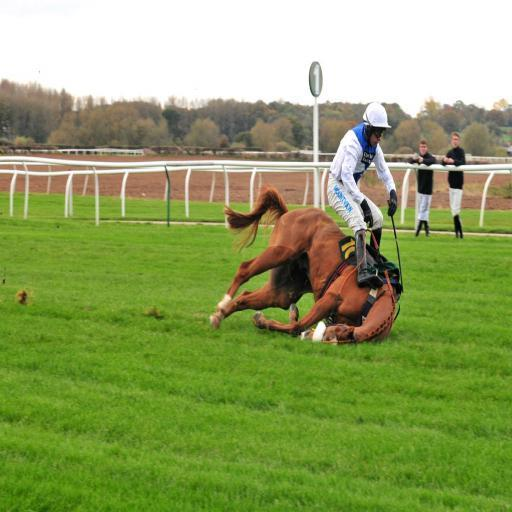horse: (210, 184, 396, 348)
